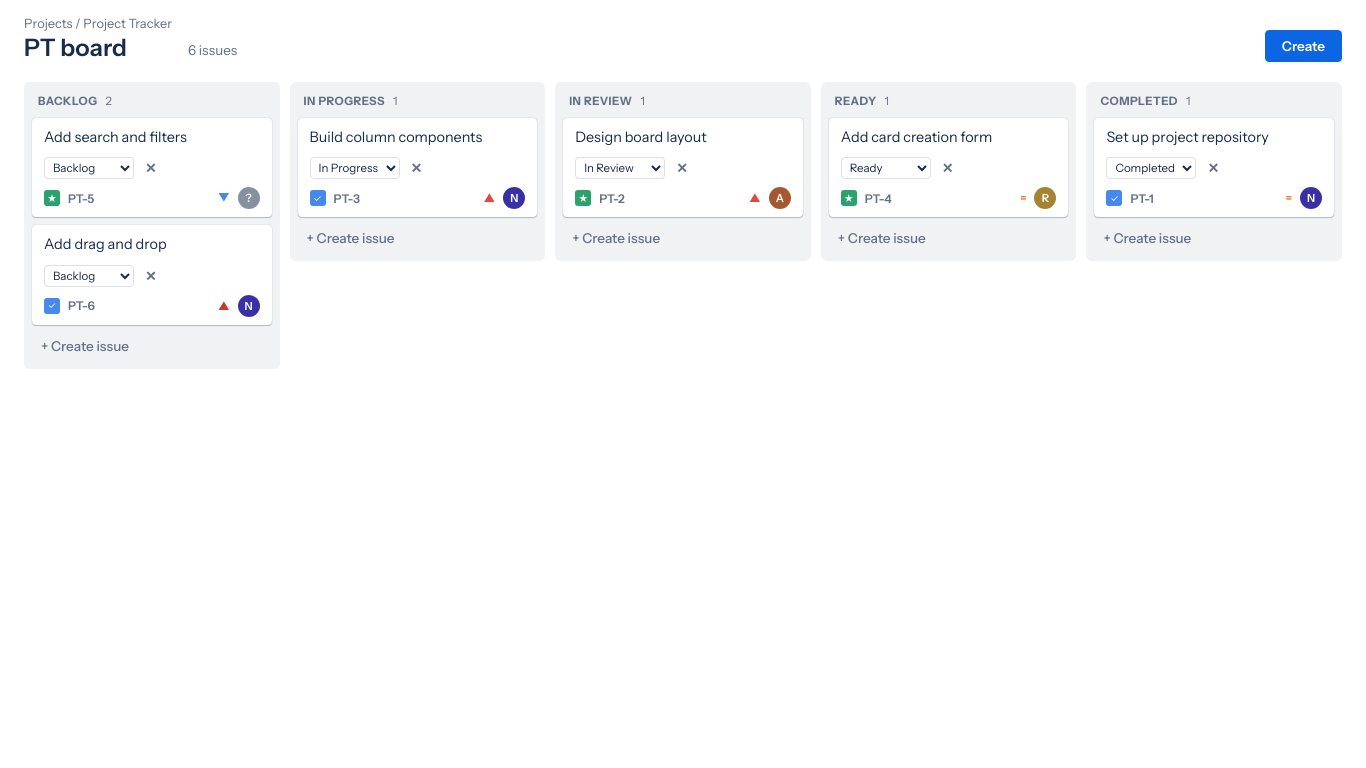
Scenario: Creating issues › creates a full issue from the Create dialog
Click the button "Create" at (1303, 46), box left=1265, top=30, right=1342, bottom=62
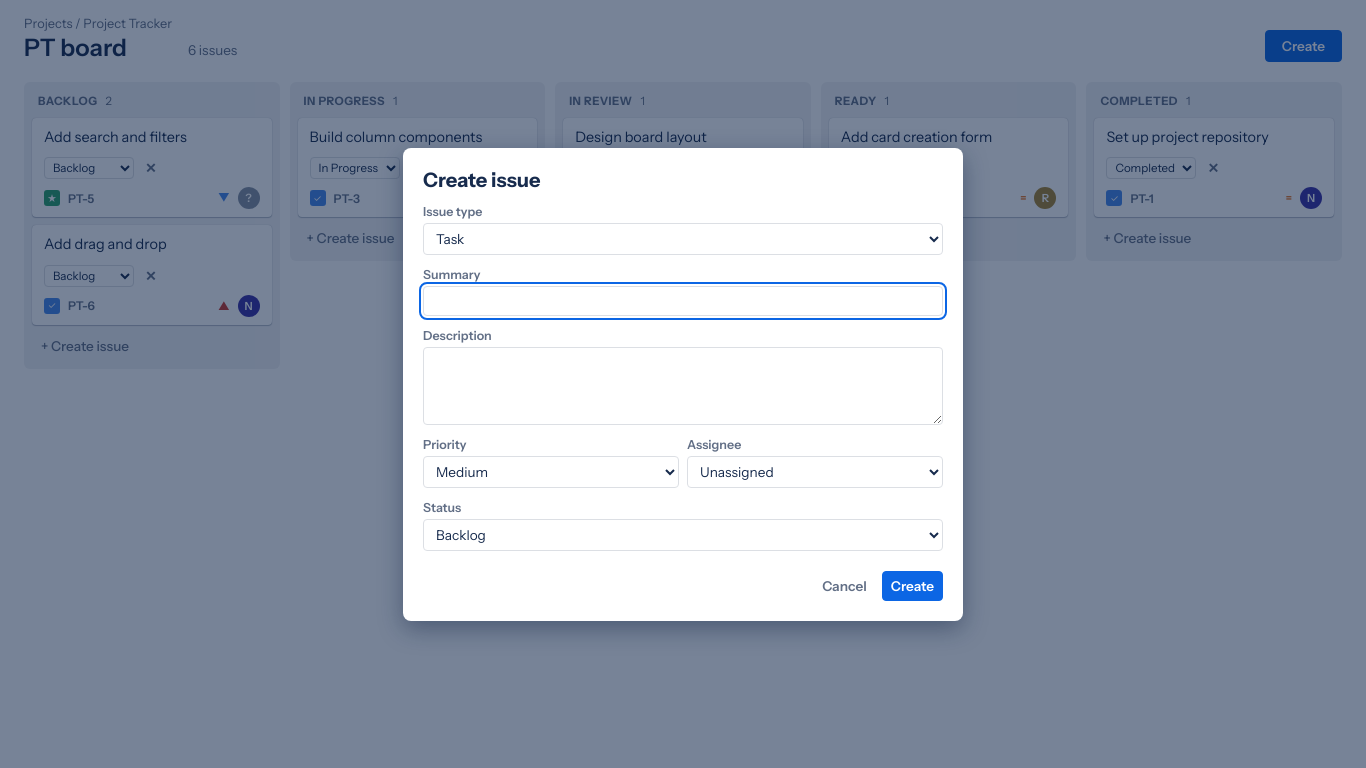
Type "Fix login bug" into the field labelled "Summary" at (683, 300), box left=423, top=286, right=943, bottom=316
Select "Bug" in the dropdown labelled "Issue type" at (683, 238), box left=423, top=222, right=943, bottom=254
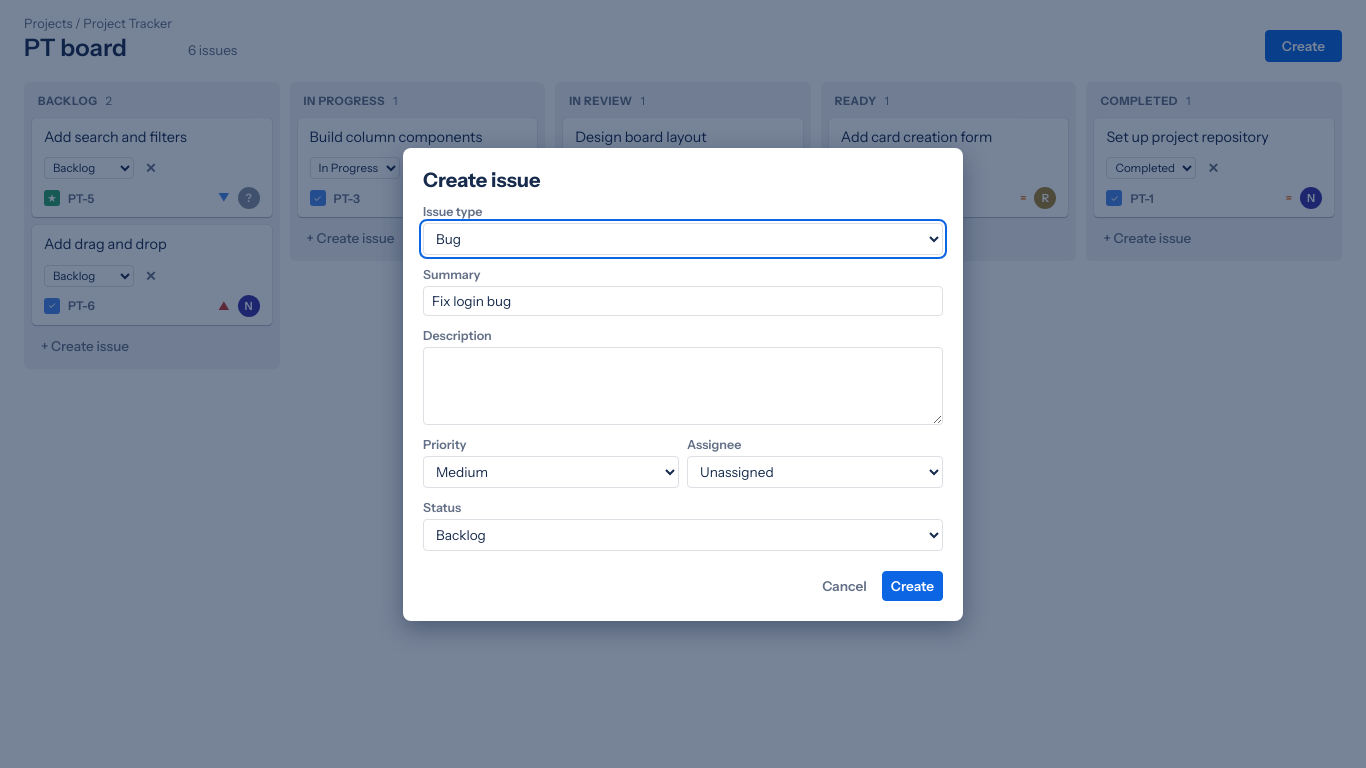
Select "High" in the dropdown labelled "Priority" at (551, 472), box left=423, top=456, right=679, bottom=488
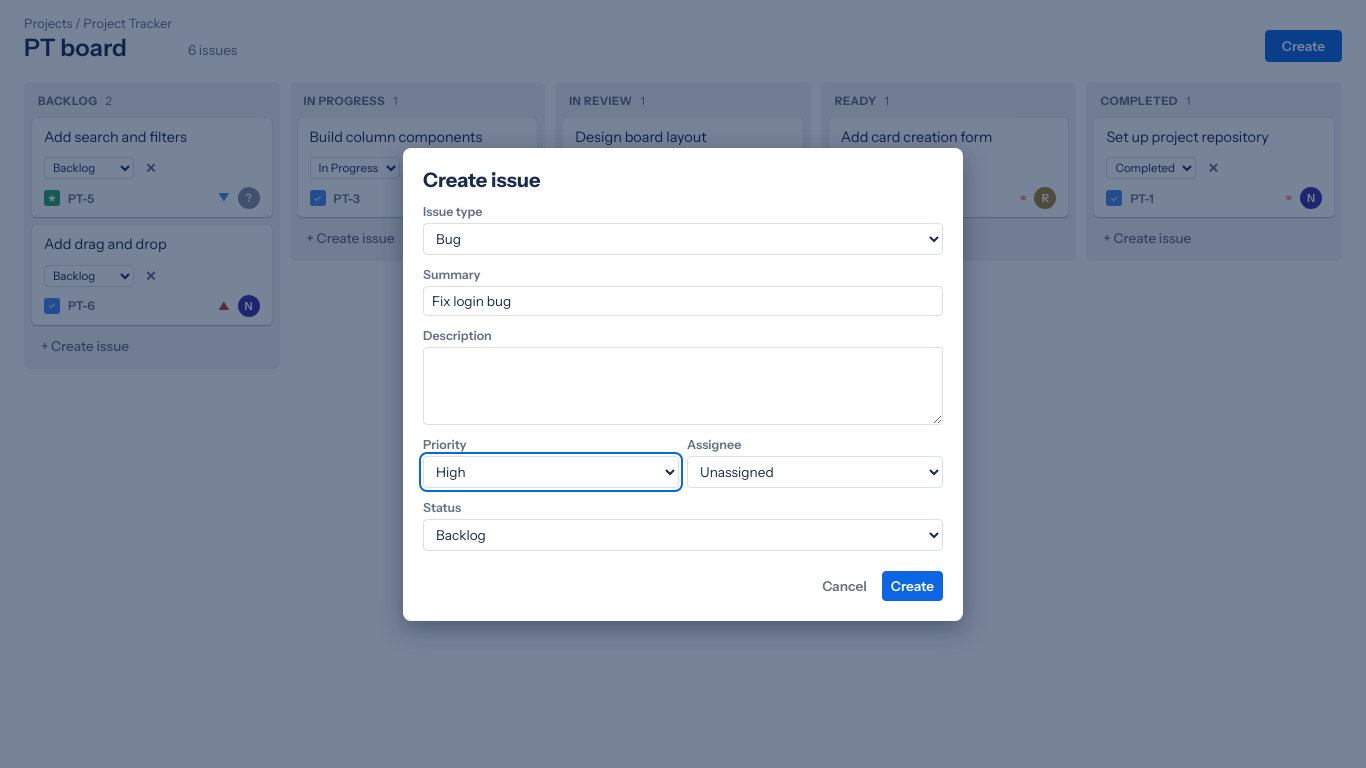
Select "Asha" in the dropdown labelled "Assignee" at (815, 472), box left=687, top=456, right=943, bottom=488
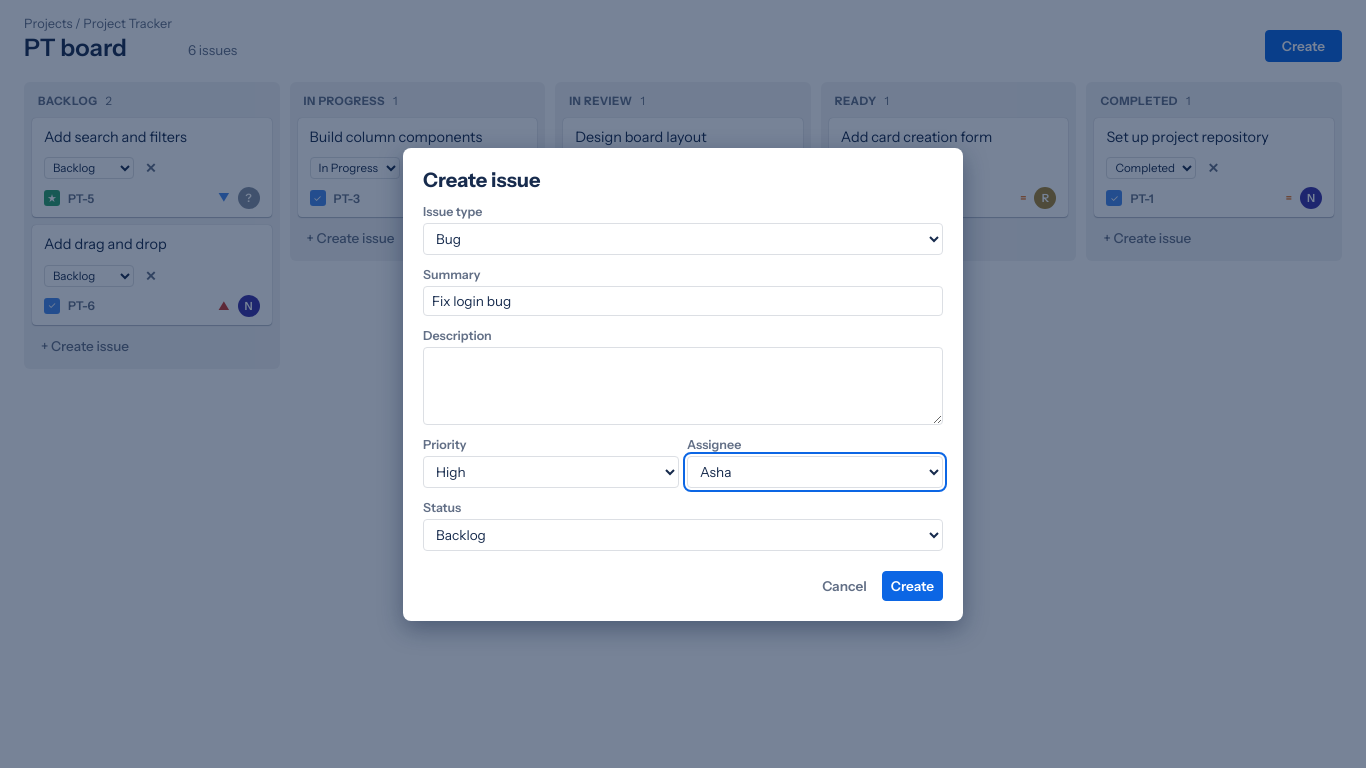
Select "Ready" in the dropdown labelled "Status" at (683, 534), box left=423, top=518, right=943, bottom=550
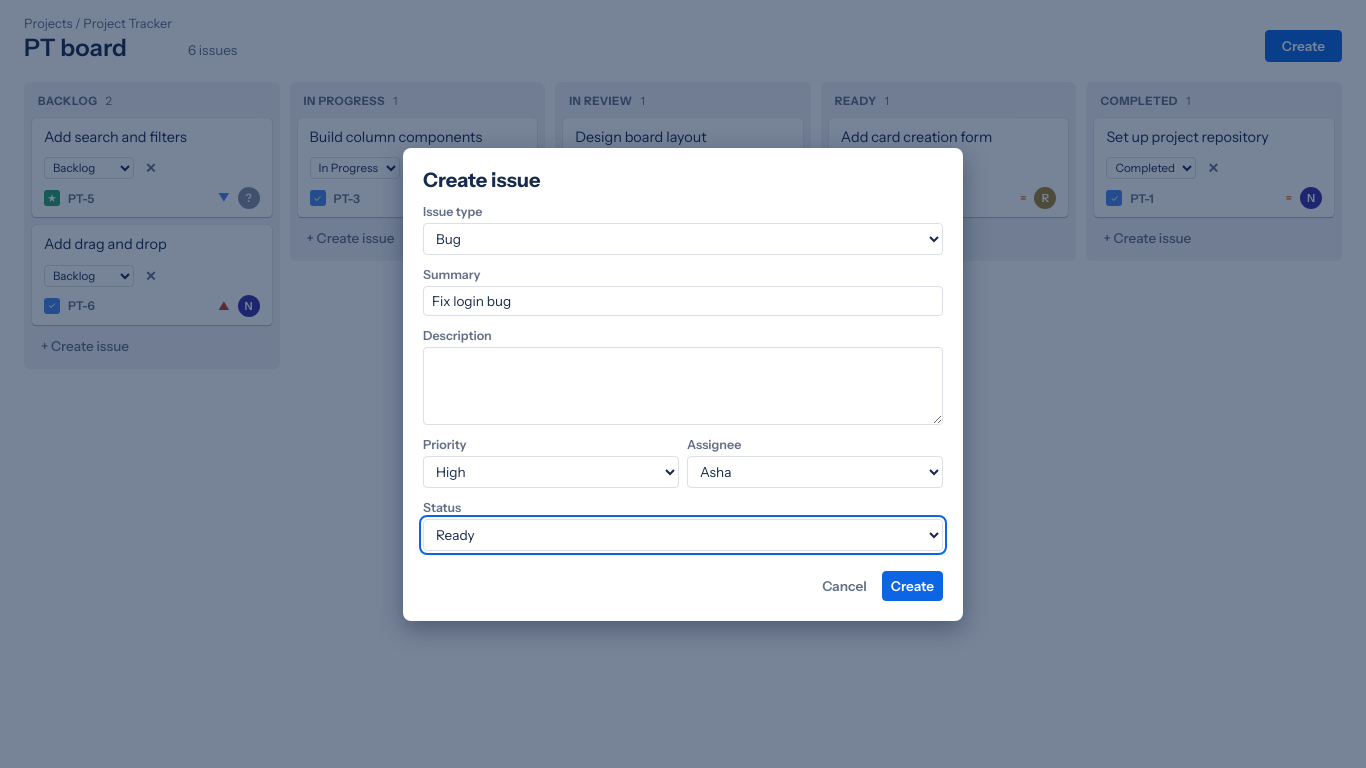
Click the button "Create" at (912, 586), box left=882, top=570, right=943, bottom=600
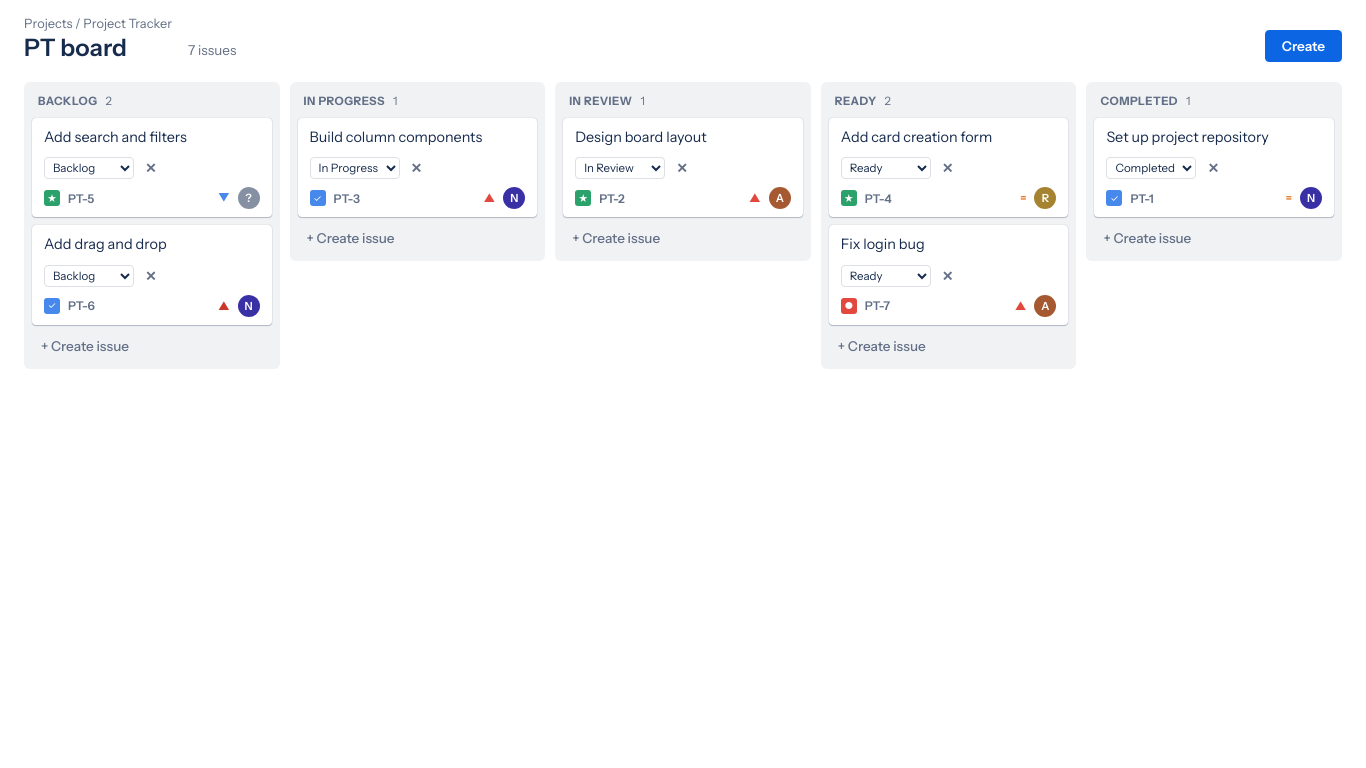
Expected: the dialog is gone
Expected: the text named "Type: Bug" is shown, left=841, top=298, right=857, bottom=314
Expected: the text named "Priority: High" is shown, left=1015, top=299, right=1026, bottom=313
